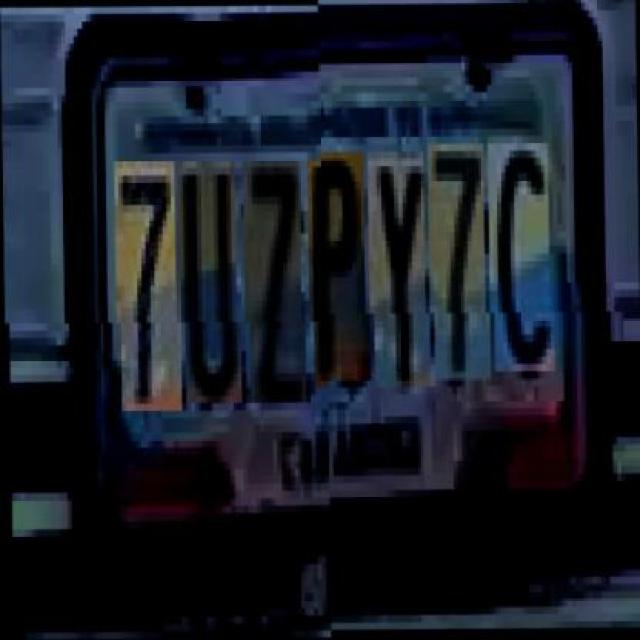7: (118, 160, 180, 412), (432, 150, 490, 388)
c: (491, 152, 554, 379)
p: (310, 160, 370, 388)
u: (182, 161, 242, 404)
y: (372, 158, 430, 396)
z: (246, 160, 306, 403)
